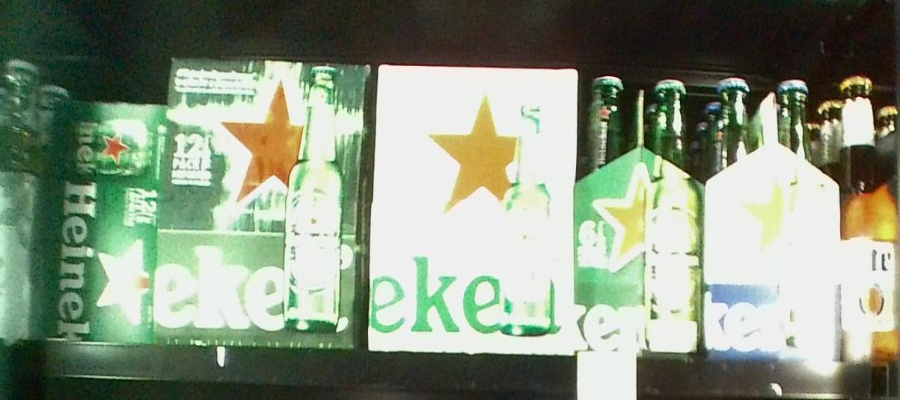bottle: (374, 58, 575, 357), (169, 53, 370, 351), (707, 70, 839, 366), (581, 70, 705, 354), (47, 101, 156, 342), (839, 76, 900, 362)
